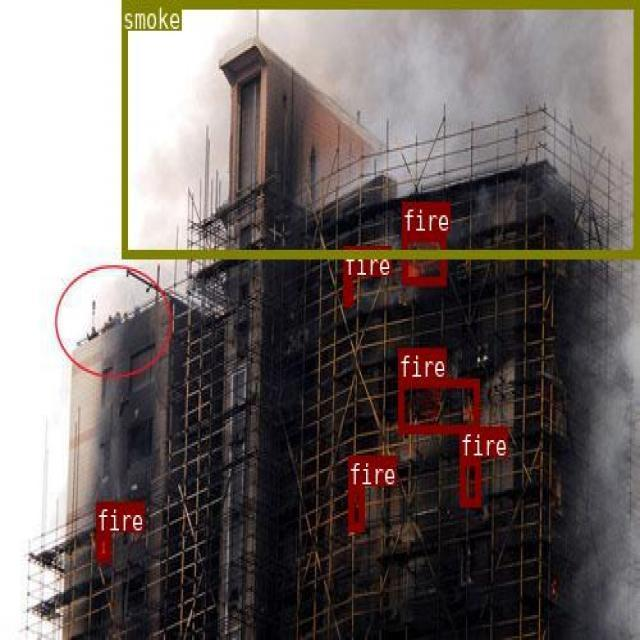fire: (397, 379, 478, 431), (402, 232, 445, 283), (458, 456, 480, 506), (348, 485, 364, 530), (96, 531, 110, 560), (342, 275, 352, 305)
smoke: (122, 0, 638, 256)
